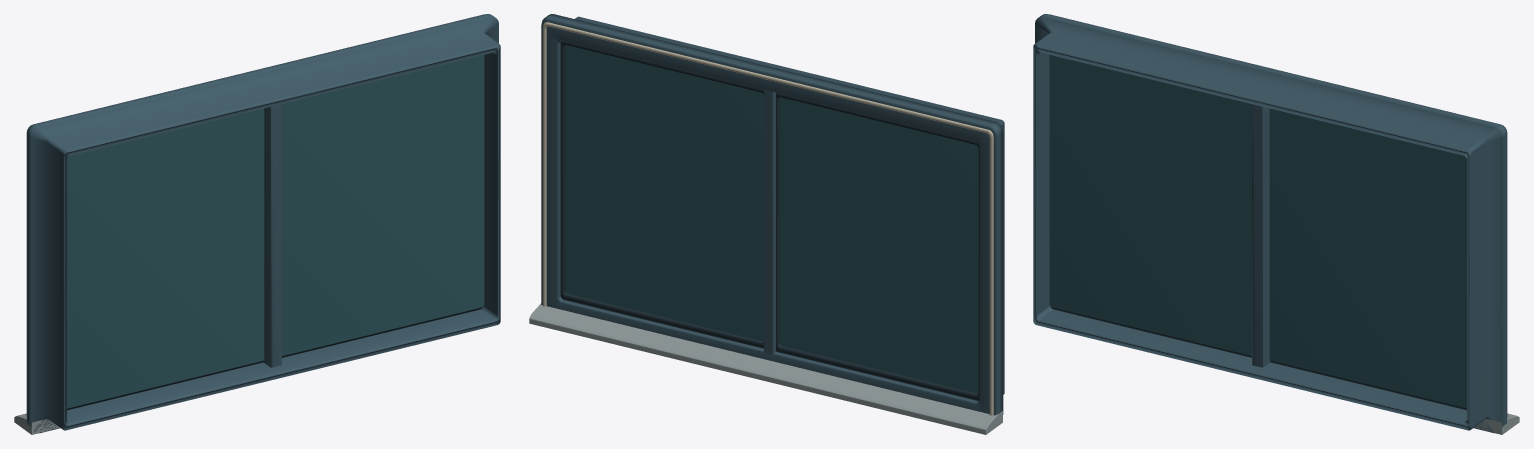
The model's file is reexport_city_shop_fittings_05.glb.
3 renders of one model, left to right at view 1: azimuth 30°, elevation 25°; view 2: azimuth 150°, elevation 25°; view 3: azimuth 330°, elevation 25°, orthographic. The views are drawn at different scales.
Parts seen in each view (by area): view 1: right_opaque_glazing, left_opaque_glazing, formed_perimeter, centre_mullion, sloped_sill, right_glazing_gasket, left_glazing_gasket; view 2: left_opaque_glazing, right_opaque_glazing, formed_perimeter, sloped_sill, ivory_perimeter_inlay, left_glazing_gasket, right_glazing_gasket, centre_mullion; view 3: left_opaque_glazing, right_opaque_glazing, formed_perimeter, centre_mullion, left_glazing_gasket, sloped_sill, right_glazing_gasket.
Part boxes in pixels (x1,y1,x2,y2): right_opaque_glazing: [282, 55, 484, 355]; left_opaque_glazing: [67, 108, 264, 408]; formed_perimeter: [26, 14, 500, 433]; centre_mullion: [263, 104, 281, 367]; sloped_sill: [14, 413, 59, 434]; right_glazing_gasket: [282, 306, 483, 357]; left_glazing_gasket: [67, 360, 263, 410]; left_opaque_glazing: [780, 97, 978, 393]; right_opaque_glazing: [565, 45, 763, 341]; formed_perimeter: [541, 14, 1004, 415]; sloped_sill: [529, 303, 1002, 434]; ivory_perimeter_inlay: [542, 22, 993, 415]; left_glazing_gasket: [776, 92, 979, 400]; right_glazing_gasket: [560, 40, 763, 348]; centre_mullion: [764, 89, 775, 354]; left_opaque_glazing: [1049, 55, 1251, 355]; right_opaque_glazing: [1269, 108, 1466, 408]; formed_perimeter: [1033, 14, 1507, 433]; centre_mullion: [1252, 104, 1270, 367]; left_glazing_gasket: [1050, 306, 1251, 357]; sloped_sill: [1474, 413, 1519, 434]; right_glazing_gasket: [1270, 360, 1466, 410].
Size of the model in its own units: 3.2 by 2 by 0.4.
